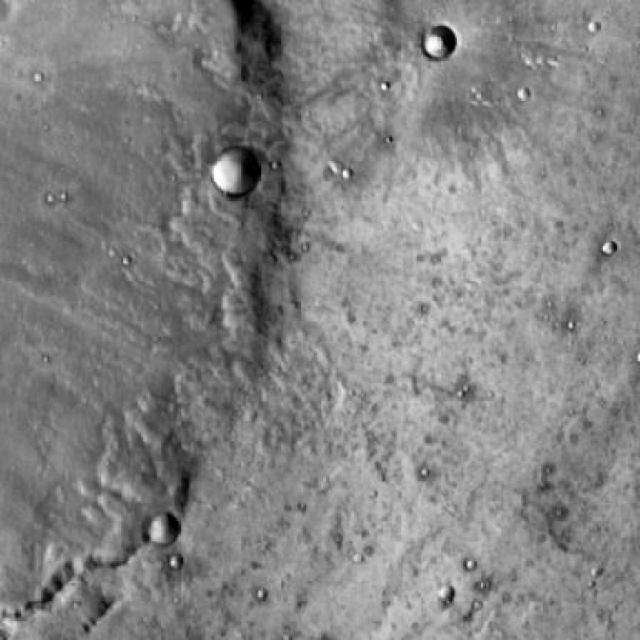crater: (197, 136, 245, 184), (407, 18, 438, 50), (132, 506, 160, 534)
